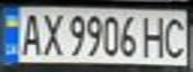0: (103, 12, 121, 57)
6: (118, 12, 142, 59)
9: (63, 11, 87, 57), (84, 11, 103, 57)
A: (15, 9, 45, 57)
C: (160, 13, 193, 60)
H: (139, 12, 172, 60)
X: (39, 9, 66, 56)
